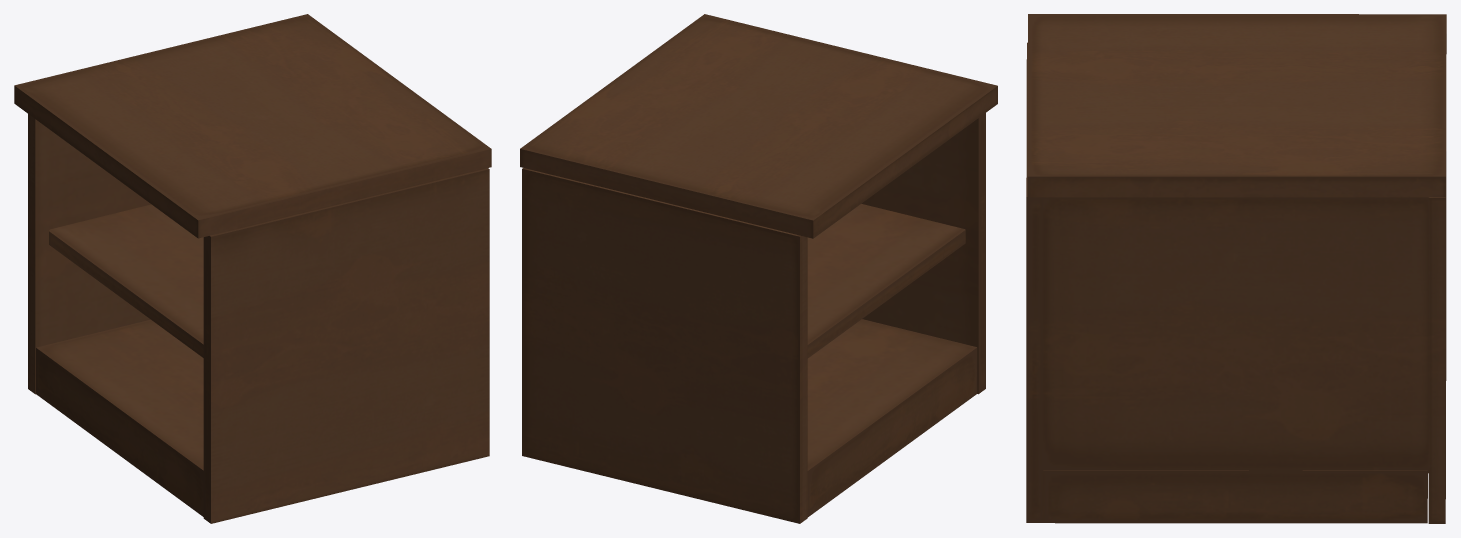
Rendered from SM_Cabinets_A2.fbx.
3 views of the same model, side by side, from view 1: azimuth 30°, elevation 25°; view 2: azimuth 150°, elevation 25°; view 3: azimuth 270°, elevation 25° (orthographic). The views are drawn at different scales.
Visible parts, largest first — view 1: SM_Cabinets_A2; view 2: SM_Cabinets_A2; view 3: SM_Cabinets_A2.
Part boxes in pixels (x1,y1,x2,y2): SM_Cabinets_A2: (14,14,491,523); SM_Cabinets_A2: (520,14,997,523); SM_Cabinets_A2: (1026,14,1446,523).
Size of the model in its own units: 48.09 by 52.45 by 47.98.
Materials: 1 (1 with a texture image).
